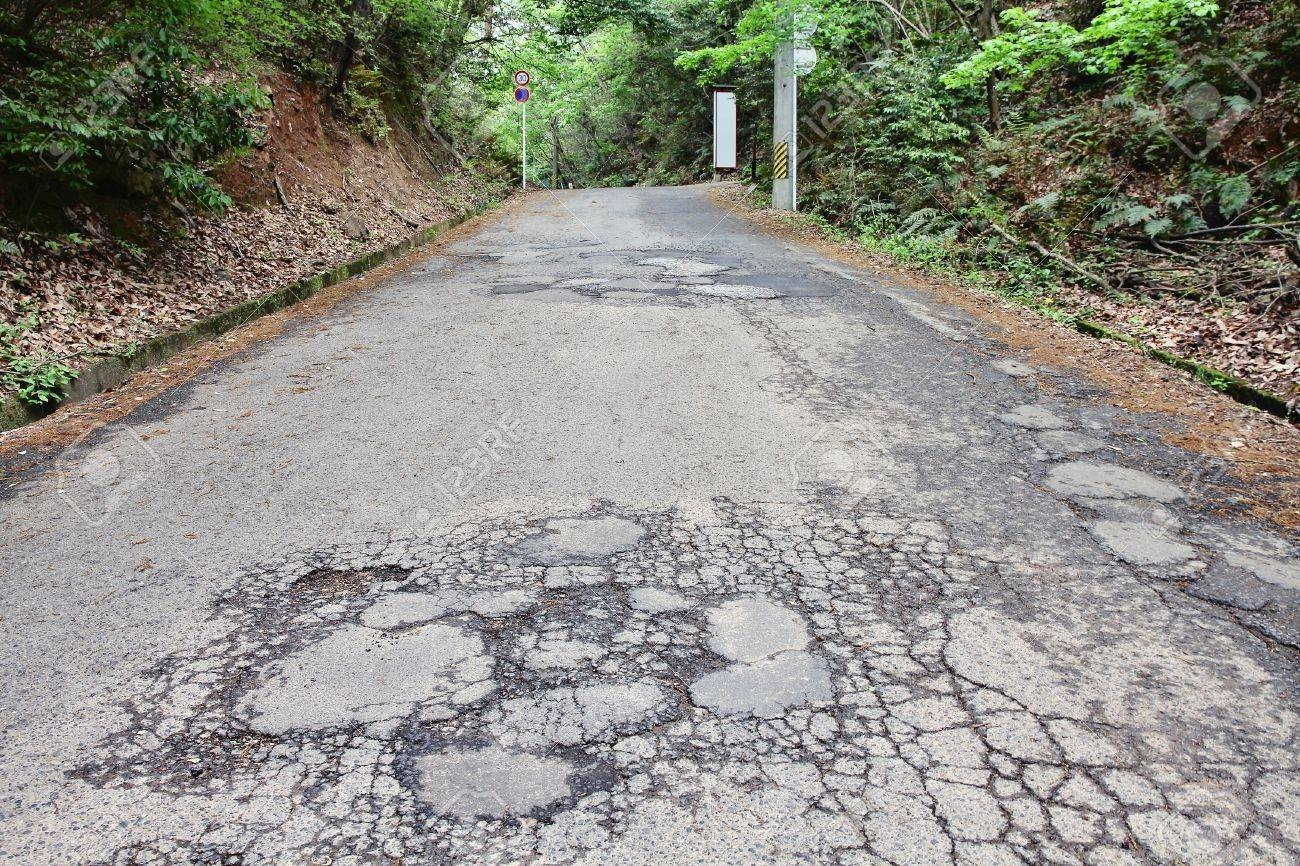pothole: (201, 496, 673, 708)
